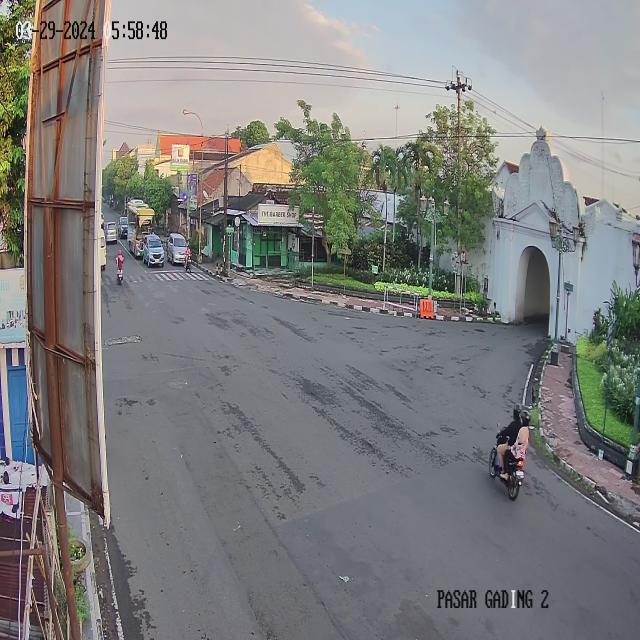bus: (127, 202, 156, 260), (126, 195, 150, 244), (97, 228, 109, 274)
car: (141, 233, 166, 270), (166, 230, 187, 266), (105, 218, 118, 248), (118, 214, 129, 239)
motorcycle: (482, 398, 534, 509), (116, 248, 126, 288), (184, 244, 193, 276)
